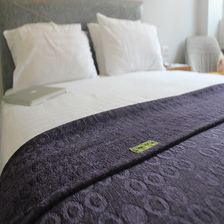laptop: (6, 78, 74, 102)
